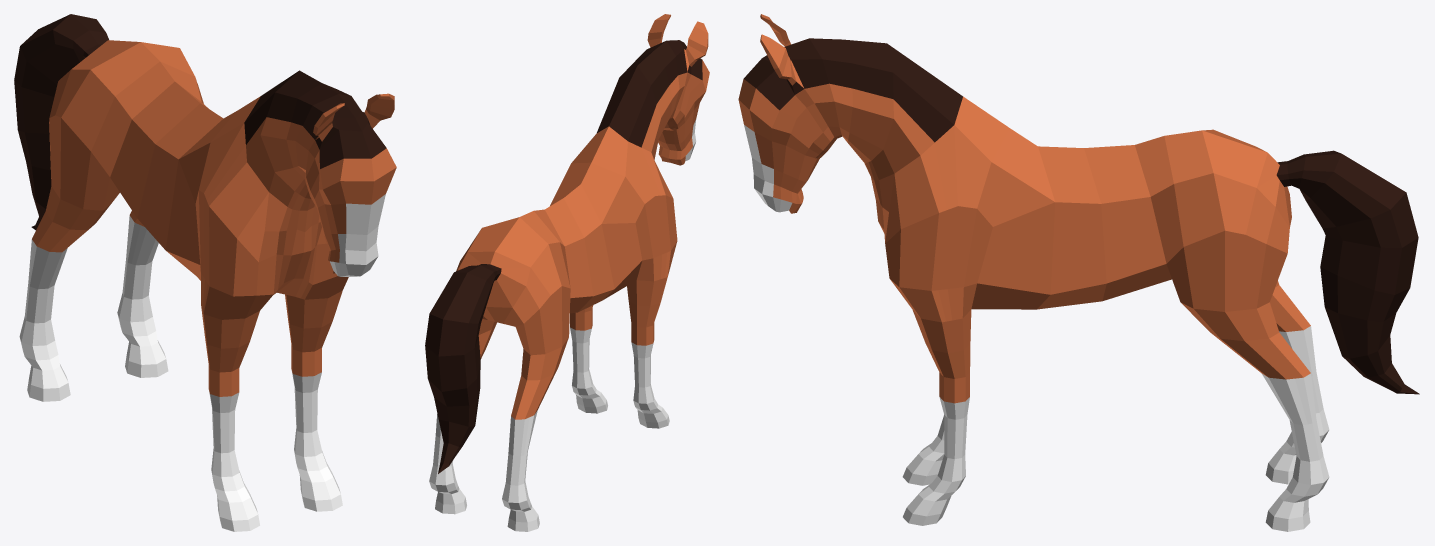
File: horse_poly.obj
The picture shows the model from 3 angles, left to right: view 1: azimuth 30°, elevation 25°; view 2: azimuth 150°, elevation 25°; view 3: azimuth 270°, elevation 25°; orthographic projection. The views are drawn at different scales.
Visible parts, largest first — view 1: Cylinder; view 2: Cylinder; view 3: Cylinder.
Boxes of the visible parts, x1=… form: Cylinder: x1=14, y1=14, x2=396, y2=531; Cylinder: x1=425, y1=14, x2=709, y2=531; Cylinder: x1=738, y1=14, x2=1419, y2=531.
Size of what is drawn, in the model's own units: 2.16 by 7.09 by 9.27.
